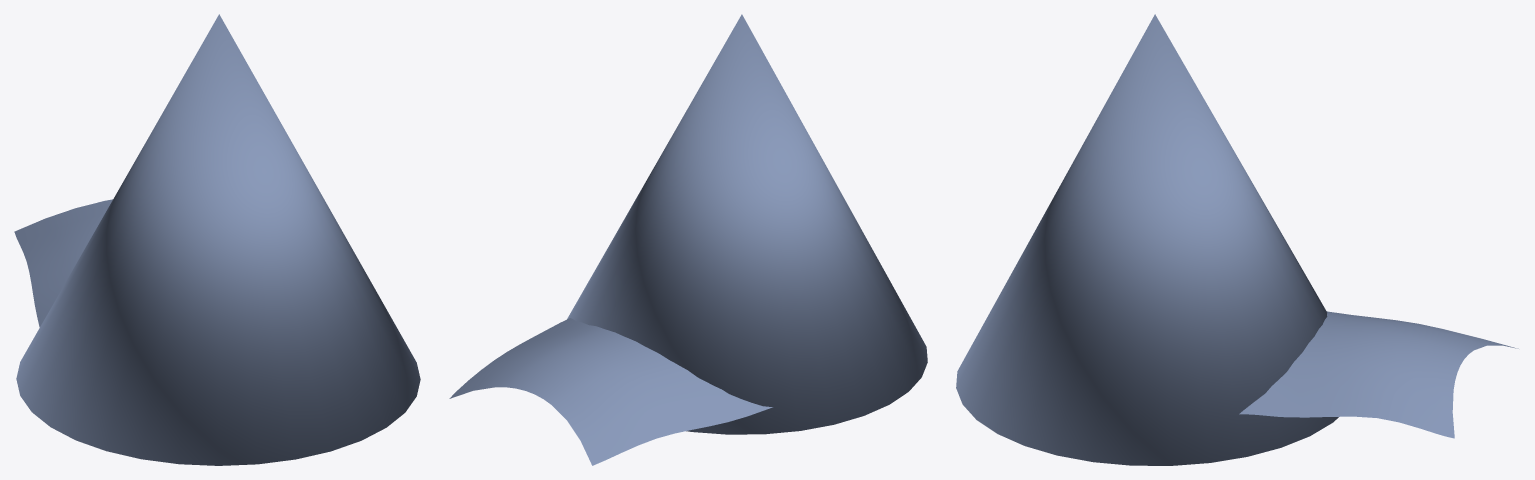
The model's file is phone hat.fbx.
The picture shows the model from 3 angles, left to right: view 1: azimuth 30°, elevation 25°; view 2: azimuth 150°, elevation 25°; view 3: azimuth 270°, elevation 25°; orthographic projection. The views are drawn at different scales.
Visible parts, largest first — view 1: PHONE HAT; view 2: PHONE HAT; view 3: PHONE HAT.
Boxes of the visible parts, x1,y1,x2,y2 form: PHONE HAT: (14, 14, 420, 465); PHONE HAT: (449, 14, 927, 465); PHONE HAT: (956, 14, 1518, 465).
Bounding box in the file's own units: 36.07 × 36.28 × 50.44.
